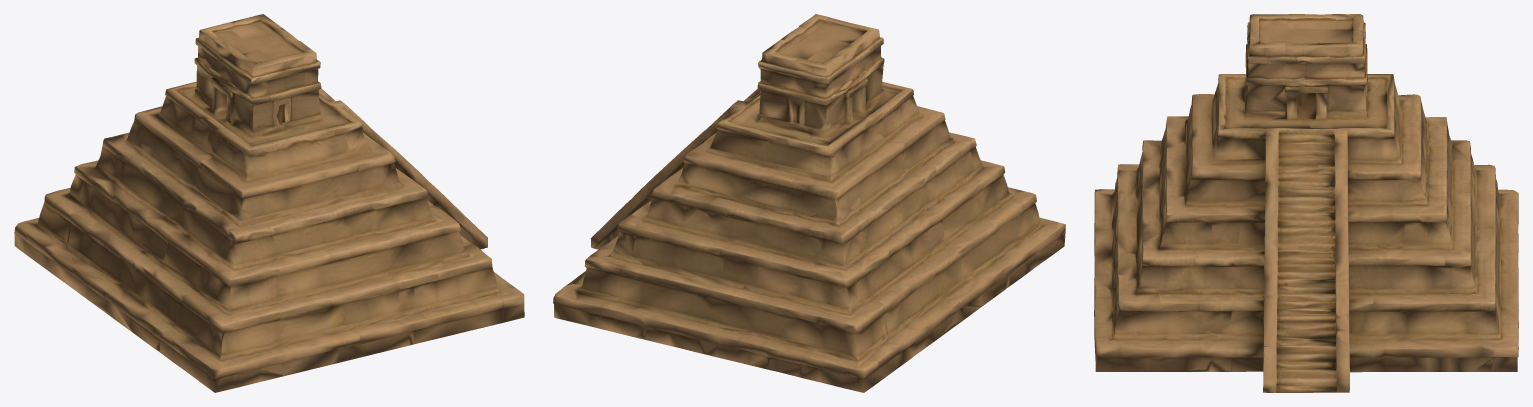
Rendered from templePyramid.glb.
The picture shows the model from 3 angles, left to right: view 1: azimuth 30°, elevation 25°; view 2: azimuth 150°, elevation 25°; view 3: azimuth 270°, elevation 25°; orthographic projection. The views are drawn at different scales.
Parts seen in each view (by area): view 1: tripo_node_46eff1d8-e10b-42fd-816e-c469bfd94f6a; view 2: tripo_node_46eff1d8-e10b-42fd-816e-c469bfd94f6a; view 3: tripo_node_46eff1d8-e10b-42fd-816e-c469bfd94f6a.
Boxes of the visible parts, x1,y1,x2,y2 form: tripo_node_46eff1d8-e10b-42fd-816e-c469bfd94f6a: (14,14,524,392); tripo_node_46eff1d8-e10b-42fd-816e-c469bfd94f6a: (553,14,1065,392); tripo_node_46eff1d8-e10b-42fd-816e-c469bfd94f6a: (1094,14,1518,392).
Size of the model in its own units: 0.9997 by 0.6589 by 0.9874.
1 material, 1 textured.
